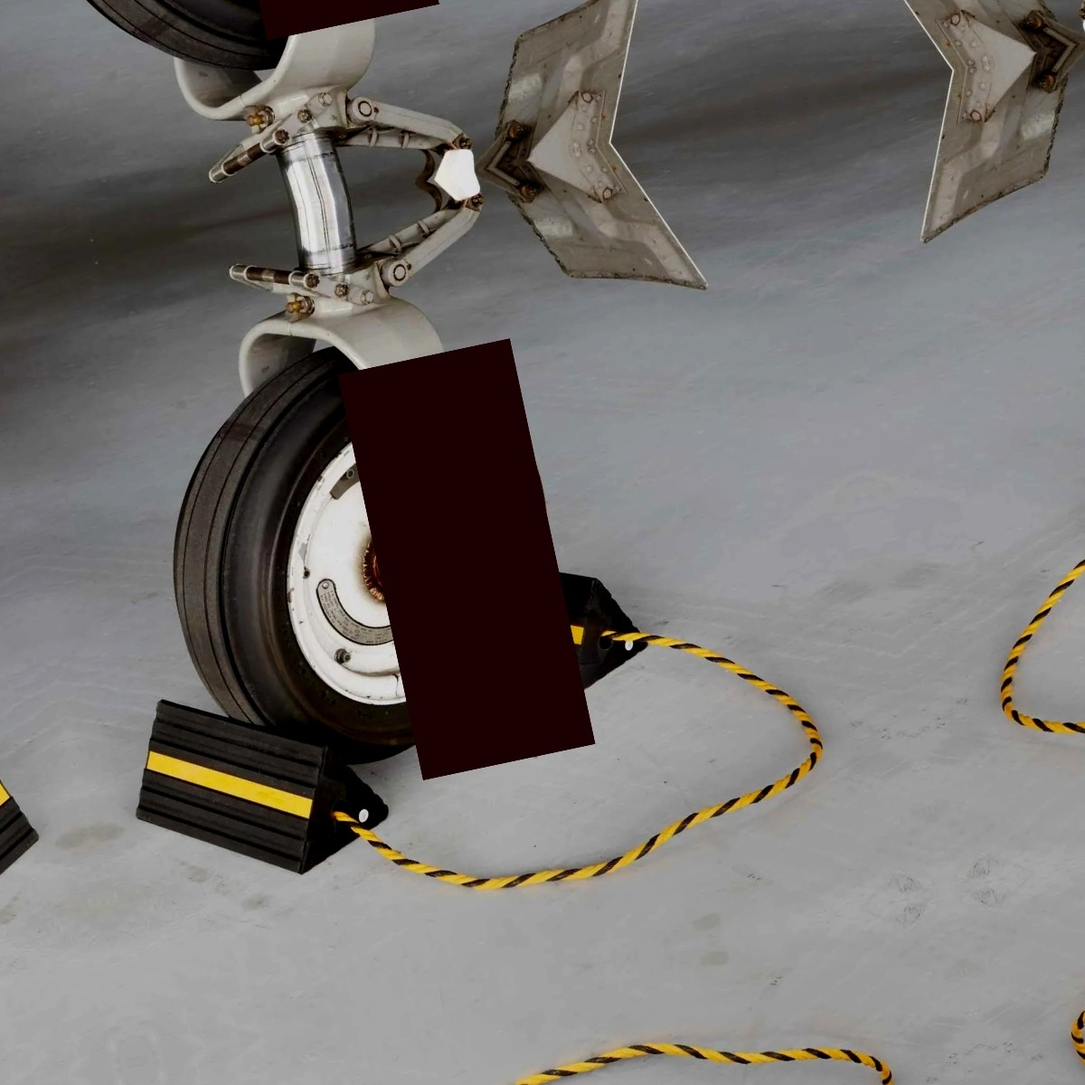chock: (112, 655, 406, 908), (378, 525, 658, 734)
wheel: (138, 313, 592, 789)
